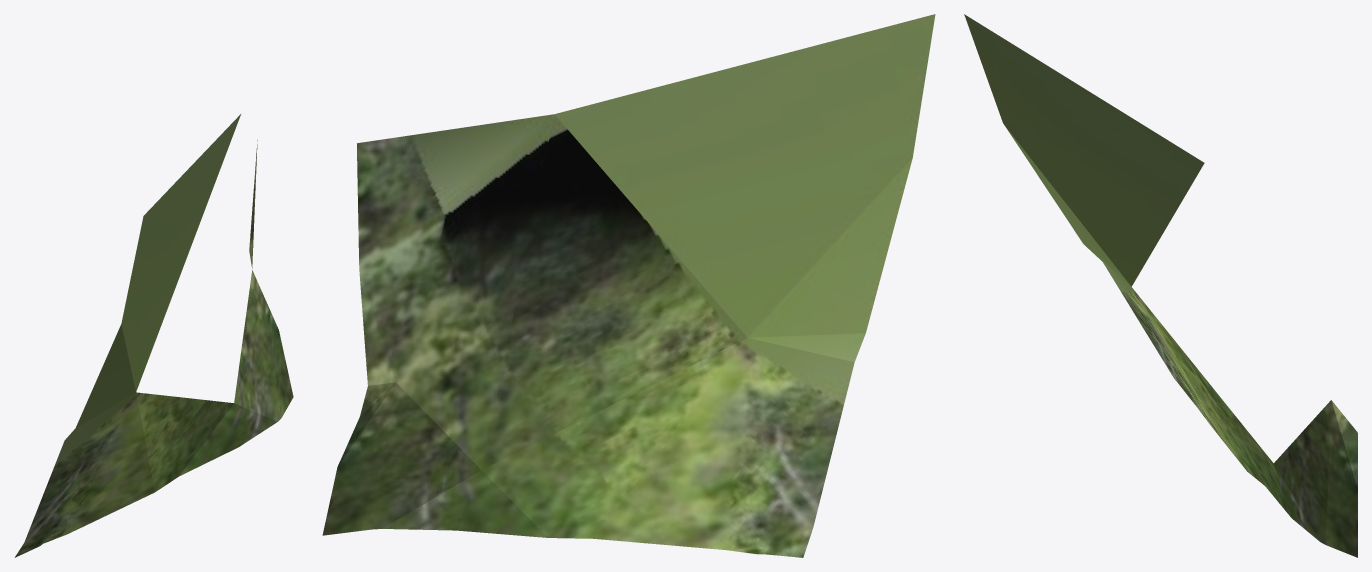
The picture shows the model from 3 angles, left to right: view 1: azimuth 30°, elevation 25°; view 2: azimuth 150°, elevation 25°; view 3: azimuth 270°, elevation 25°; orthographic projection. The views are drawn at different scales.
Bounding box in the file's own units: 17.15 × 19.12 × 17.8.
2 materials, 2 textured.
